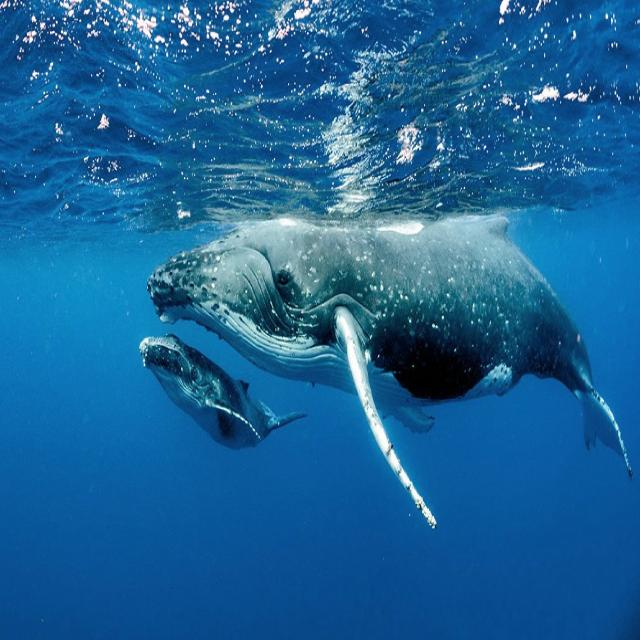whale: (147, 217, 631, 527), (140, 334, 305, 448)
